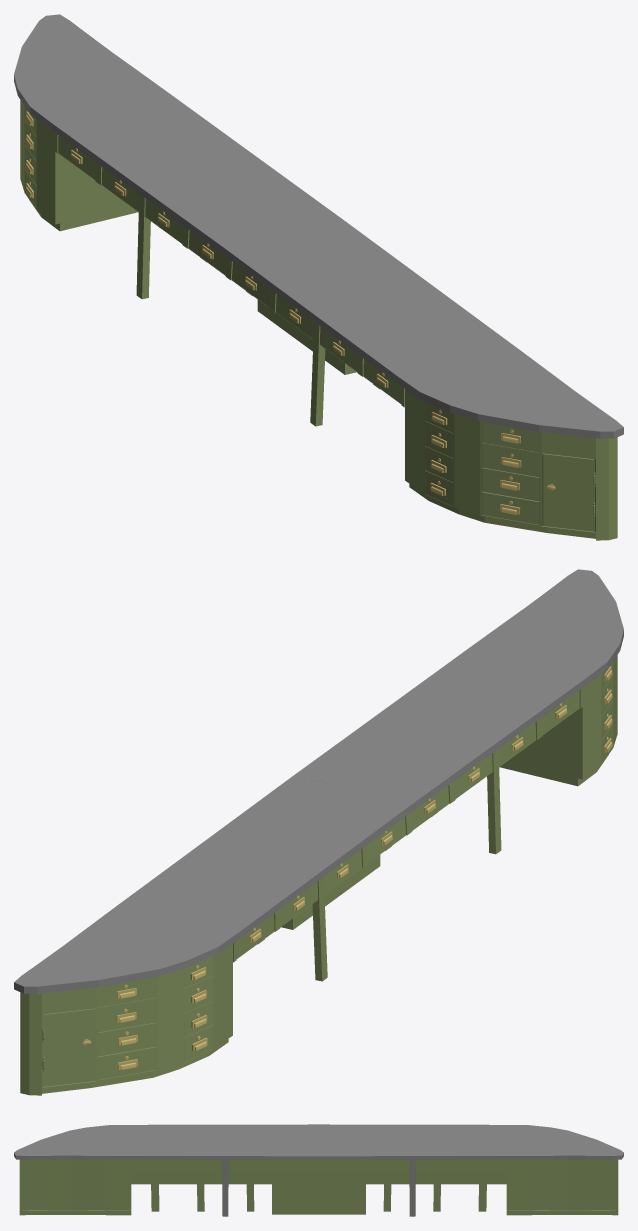
Rendered from towerAtable.fbx.
The picture shows the model from 3 angles, top to bottom: view 1: azimuth 30°, elevation 25°; view 2: azimuth 150°, elevation 25°; view 3: azimuth 270°, elevation 25°; orthographic projection. The views are drawn at different scales.
Parts seen in each view (by area): view 1: Cube; view 2: Cube; view 3: Cube.
Boxes of the visible parts, x1,y1,x2,y2 form: Cube: [14, 14, 623, 540]; Cube: [14, 569, 623, 1095]; Cube: [14, 1124, 623, 1216].
Bounding box in the file's own units: 725 × 88.38 × 80.01.
